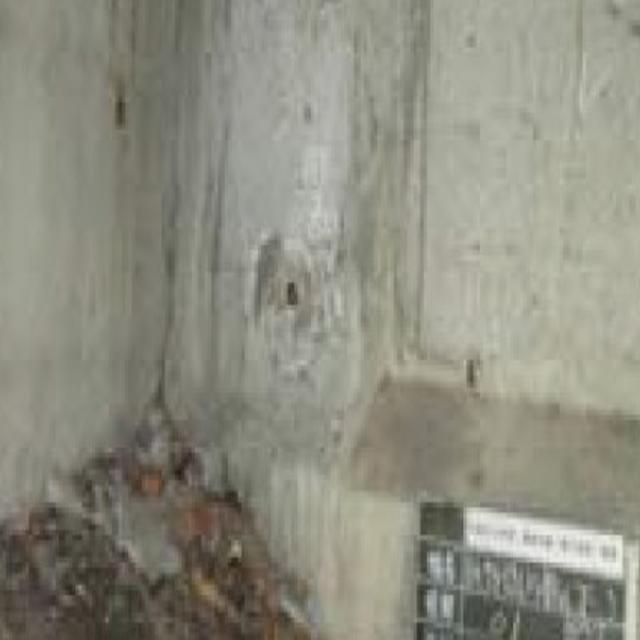spalling: (255, 220, 352, 383)
